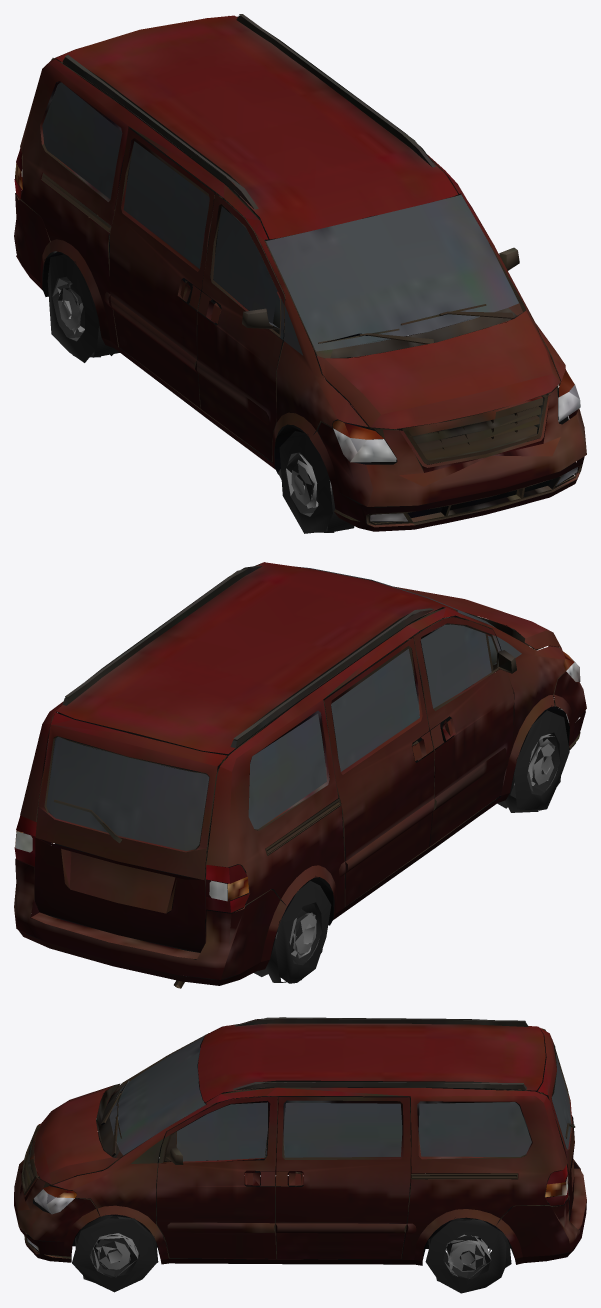
Rendered from pack-minivan-L2.glb.
The picture shows the model from 3 angles, top to bottom: view 1: azimuth 30°, elevation 25°; view 2: azimuth 150°, elevation 25°; view 3: azimuth 270°, elevation 25°; orthographic projection. The views are drawn at different scales.
Parts seen in each view (by area): view 1: body, wheel-front-left, wheel-back-left, wheel-front-left.1, wheel-back-left.1; view 2: body, wheel-back-left, wheel-front-left, wheel-front-left.1, wheel-back-left.1; view 3: body, wheel-front-right, wheel-back-right, wheel-back-right.1, wheel-front-right.1.
Boxes of the visible parts, x1,y1,x2,y2 form: body: (14, 14, 586, 531); wheel-front-left: (278, 431, 354, 533); wheel-back-left: (47, 254, 119, 362); wheel-front-left.1: (286, 453, 331, 516); wheel-back-left.1: (52, 278, 84, 340); body: (14, 562, 586, 988); wheel-back-left: (254, 881, 331, 983); wheel-front-left: (497, 710, 569, 812); wheel-front-left.1: (514, 734, 557, 791); wheel-back-left.1: (275, 912, 319, 959); body: (14, 1017, 586, 1265); wheel-front-right: (72, 1215, 158, 1292); wheel-back-right: (425, 1218, 511, 1293); wheel-back-right.1: (445, 1234, 491, 1278); wheel-front-right.1: (90, 1233, 138, 1275).
Size of the model in its own units: 1.87 by 1.82 by 4.61.
Materials: 3 (1 with a texture image).
